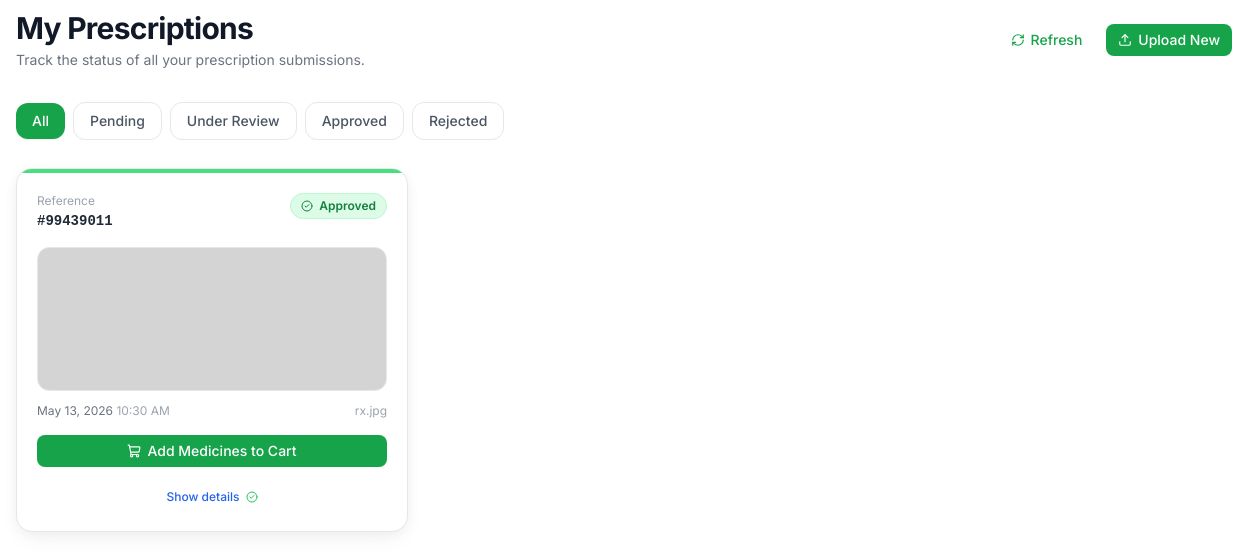
Test: Add to Cart button › disables the button after successful addition
This screenshot has width=1249, height=552.
What coordinates should you click on to do the following:
click the button with test id "add-to-cart-btn"
I would click on:
 (212, 451)
Its box is [37,435,387,467].
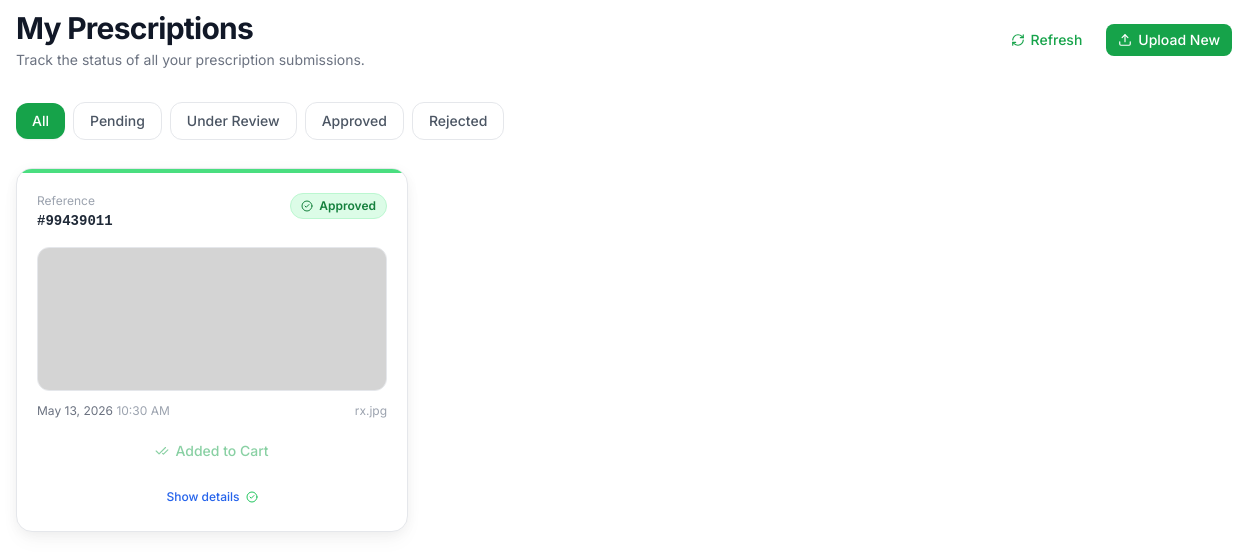
Expected: the button with test id "add-to-cart-btn" is disabled, [37,435,387,467]
